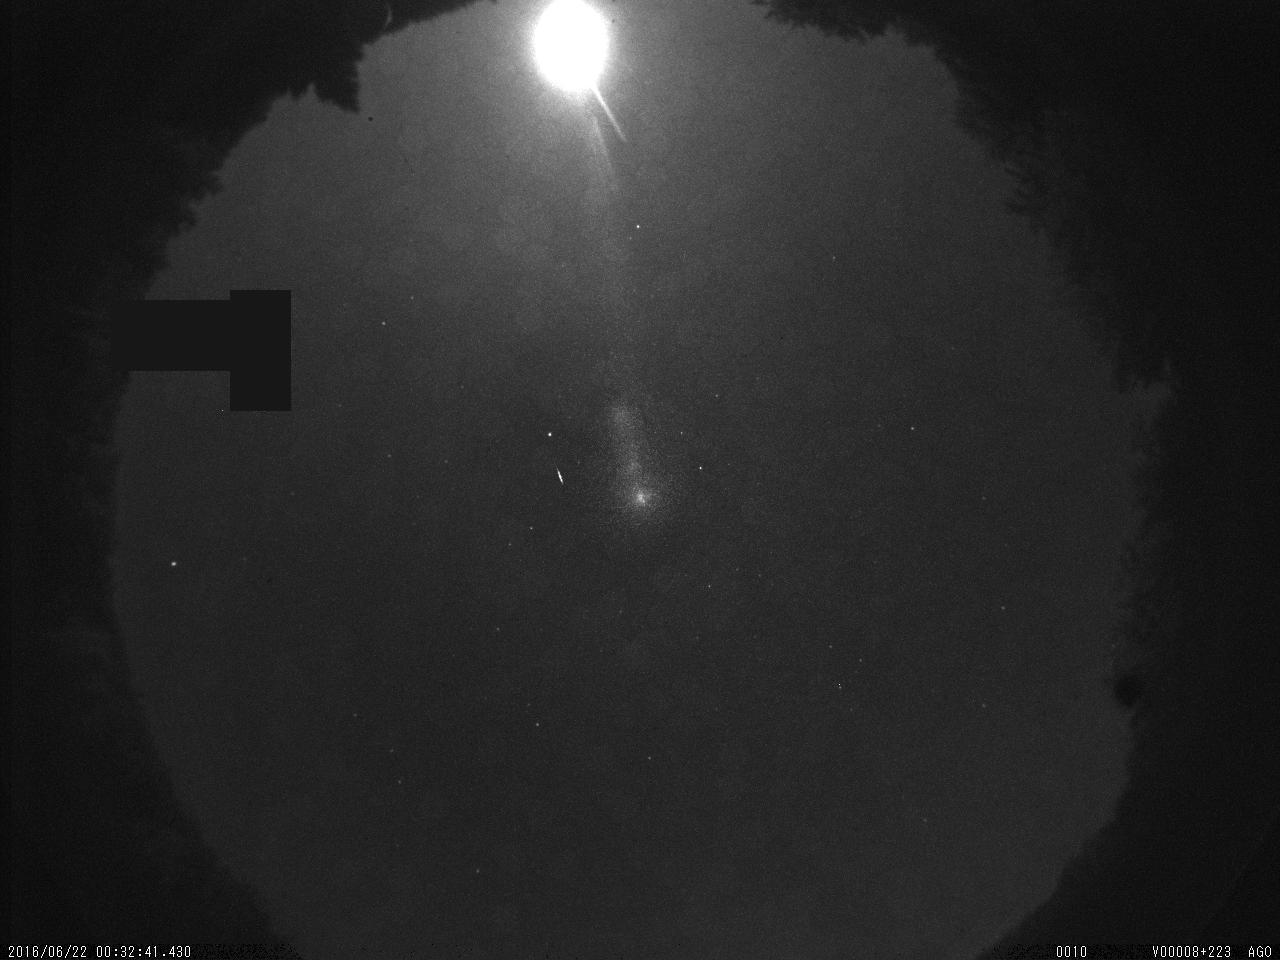meteor: (542, 449, 577, 509)
